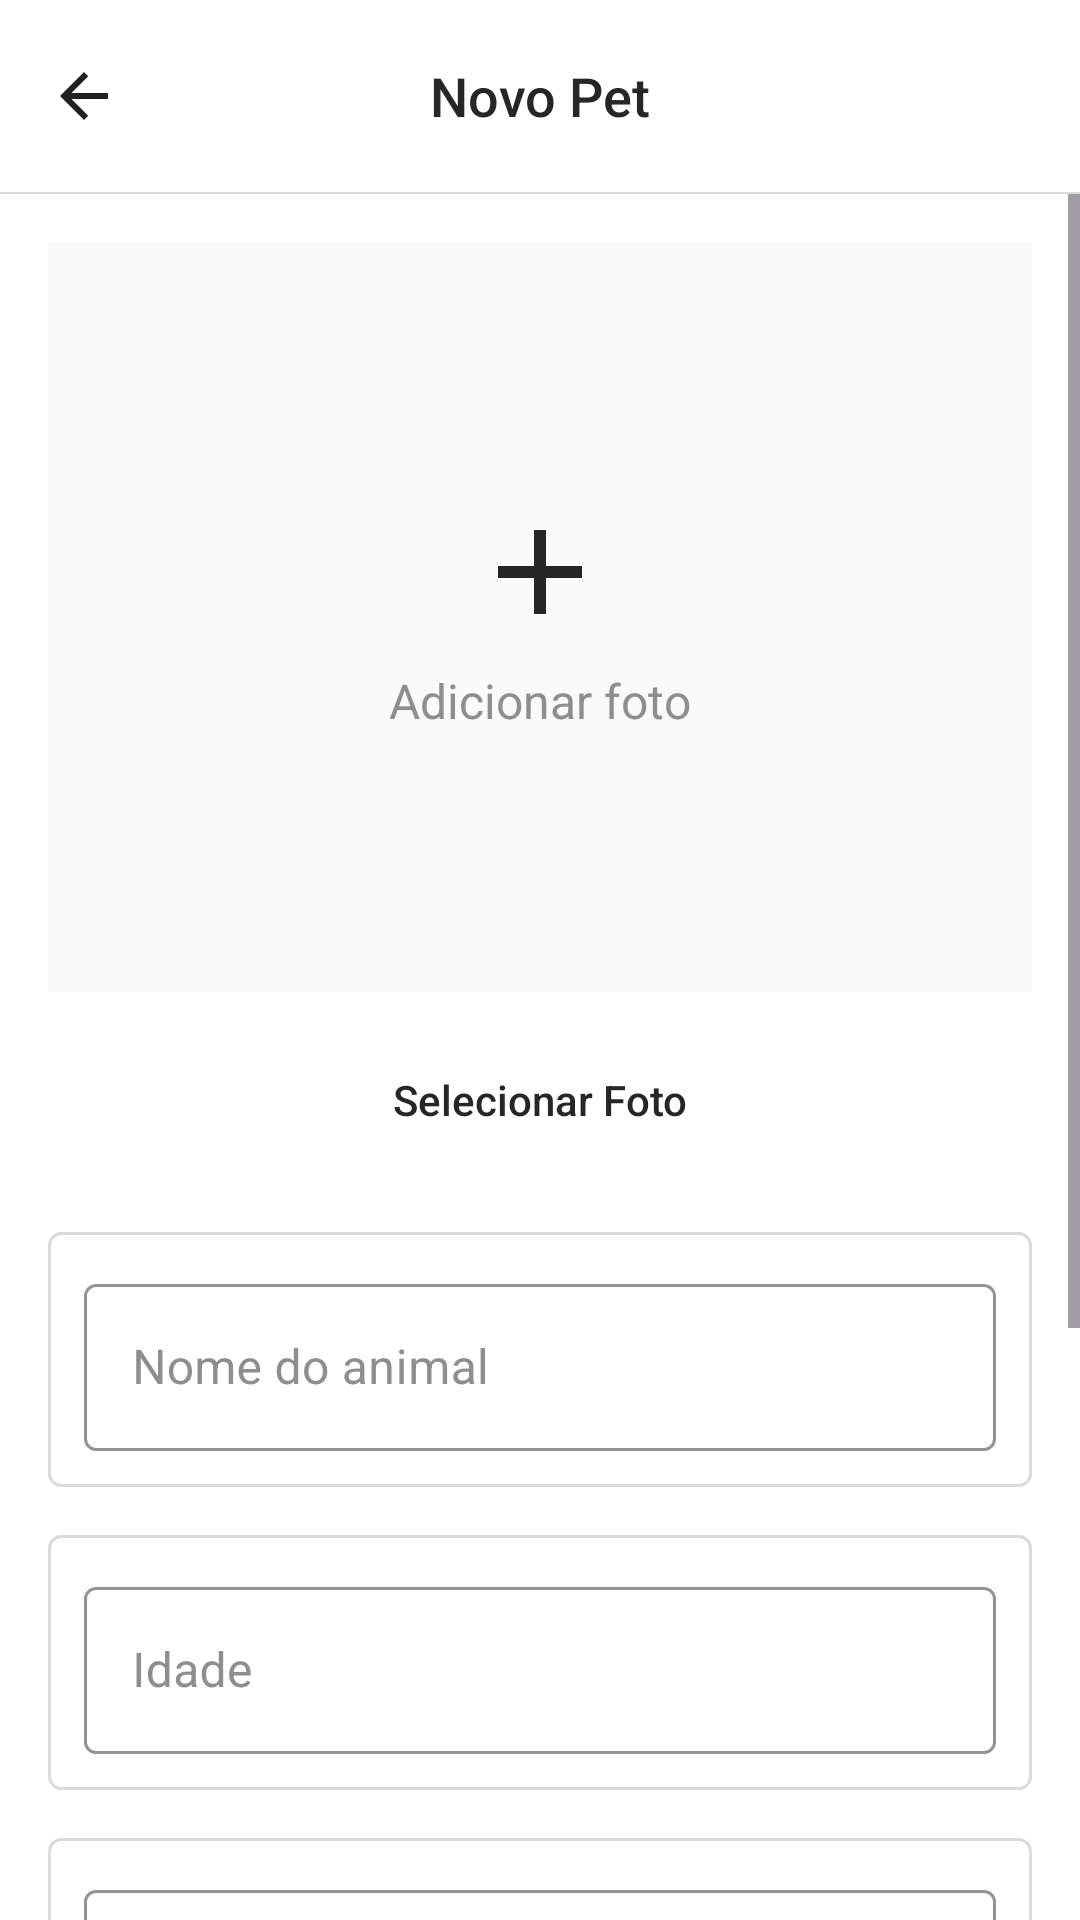

Icons on this 1080×1920 Android screen, each with its box as BBox(x1, y1, x2, y2):
add: BBox(498, 530, 582, 614)
